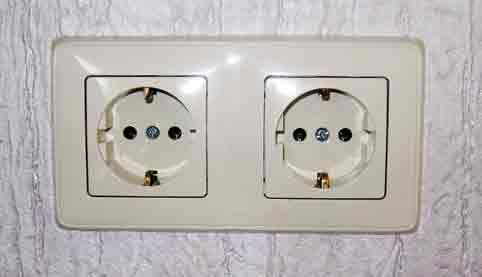raccoon: (273, 85, 378, 191), (95, 84, 199, 191)
